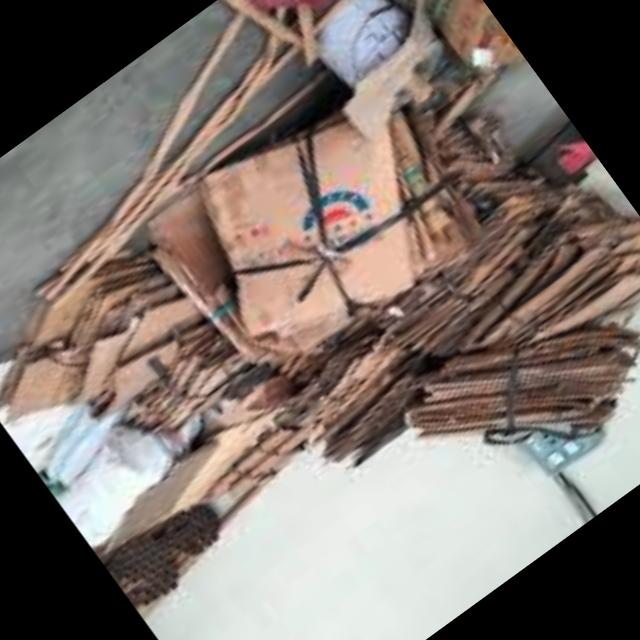Kardus: (0, 0, 640, 640), (134, 56, 494, 400), (229, 0, 430, 46)
